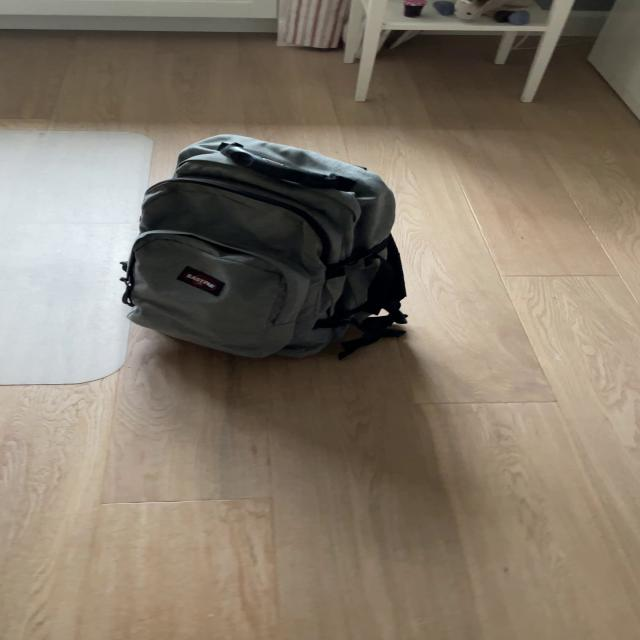backpack: (112, 124, 416, 366)
